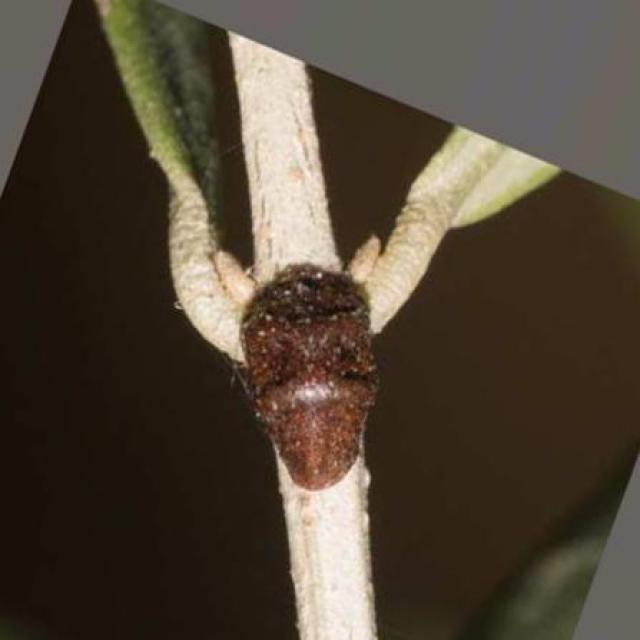BlackScale: (238, 265, 378, 491)
